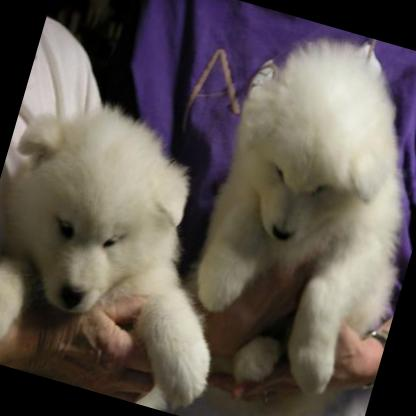Samoyed: (167, 14, 416, 416), (0, 81, 271, 414)
